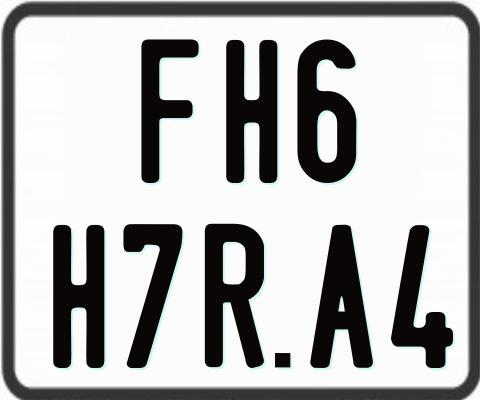4: (391, 223, 458, 370)
6: (294, 40, 356, 185)
7: (122, 224, 181, 373)
A: (307, 222, 374, 365)
F: (139, 37, 202, 184)
H: (52, 224, 109, 371), (224, 38, 280, 185)
R: (202, 223, 261, 369)
